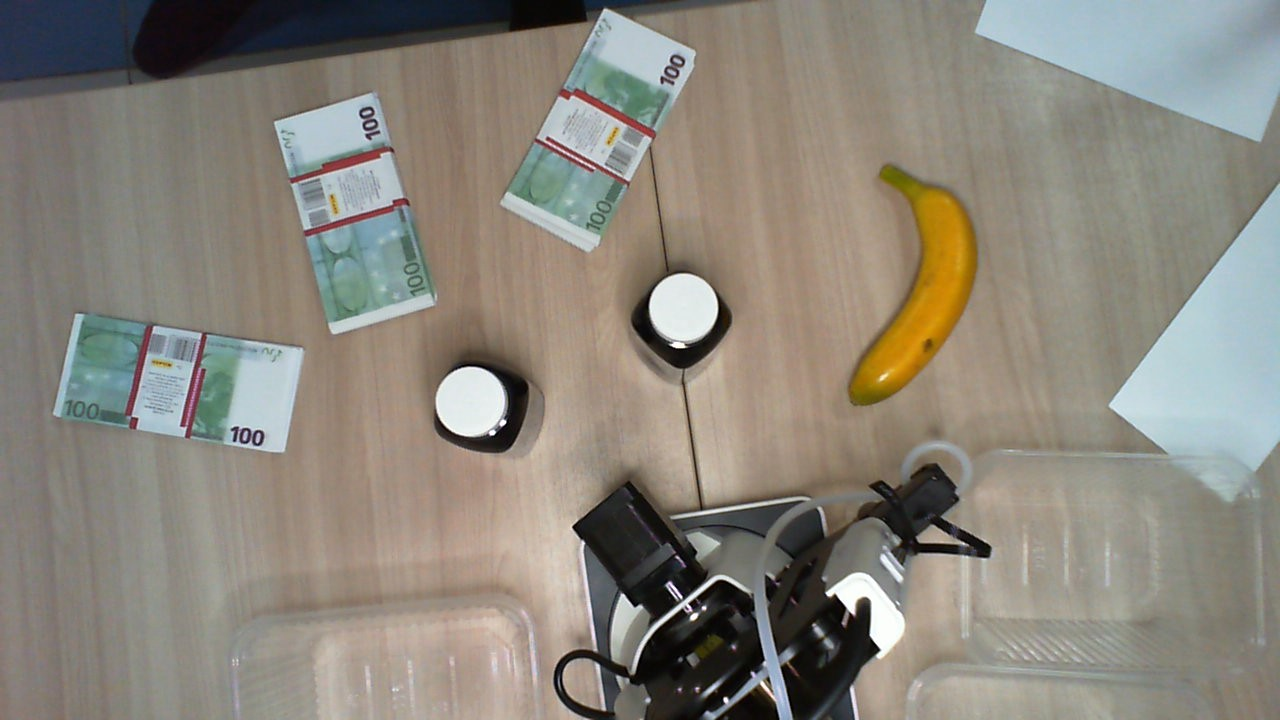banana: (847, 157, 978, 407)
bottle: (634, 270, 729, 366), (428, 364, 532, 448)
convert: (1111, 186, 1280, 514), (977, 2, 1280, 144)
money: (503, 6, 698, 253), (275, 92, 438, 338), (53, 313, 307, 457)
